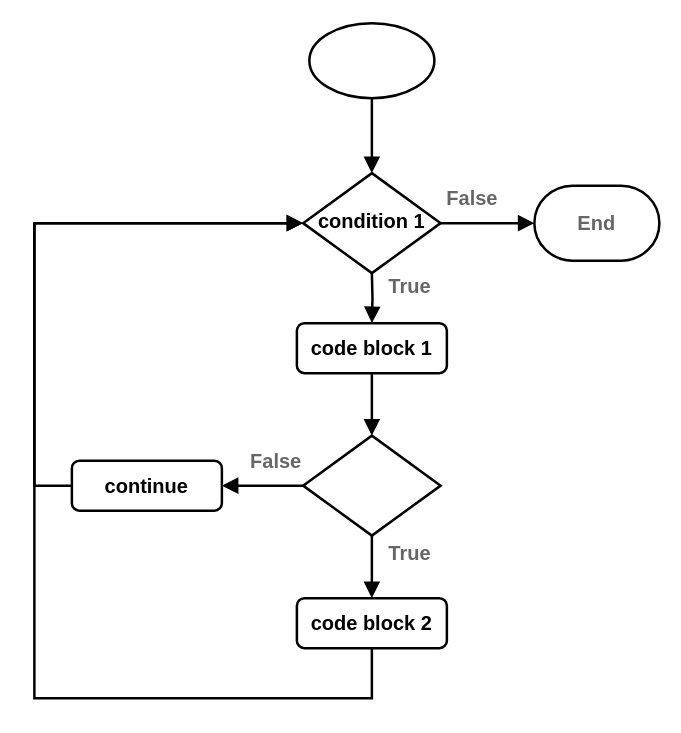
Some shapes in this 681 by 733 pixel diagram are drawn without their labels. The shapes that lost their labels are listed below. From the top down, each one's centre as x and y in pixels, then its label:
At pixel 371 60: "Start".
At pixel 371 485: "condition 2".
